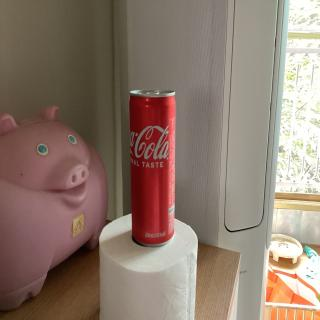cocacola: (126, 85, 182, 246)
